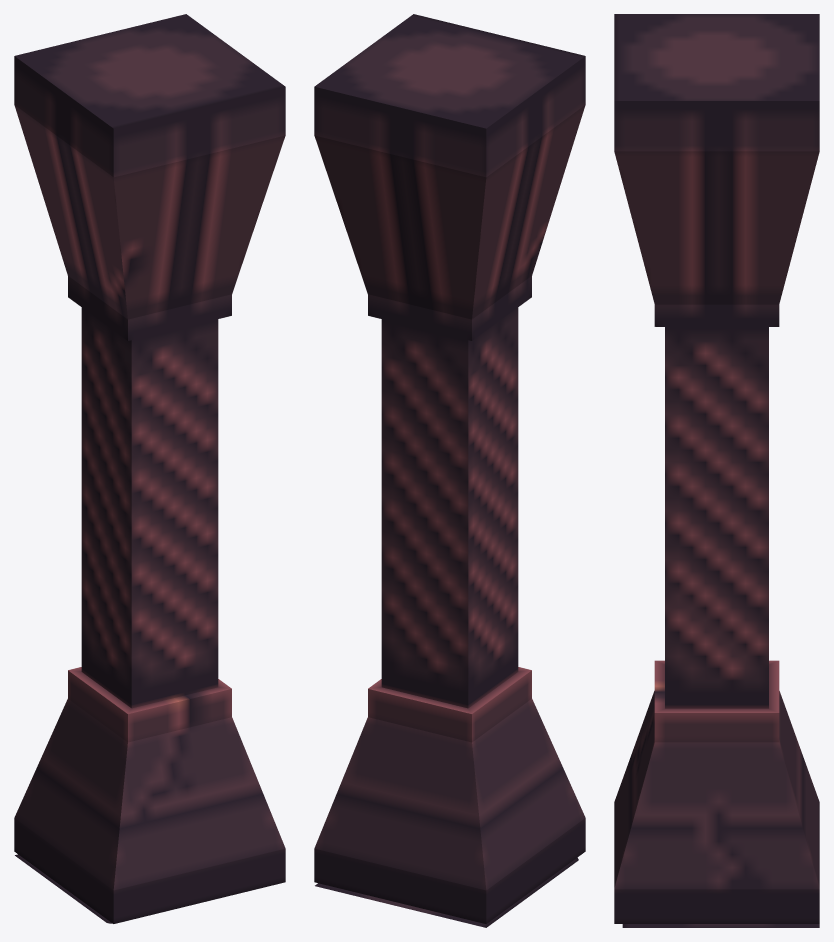
Rendered from pillar_2.fbx.
The picture shows the model from 3 angles, left to right: view 1: azimuth 30°, elevation 25°; view 2: azimuth 150°, elevation 25°; view 3: azimuth 270°, elevation 25°; orthographic projection. The views are drawn at different scales.
Visible parts, largest first — view 1: Box001; view 2: Box001; view 3: Box001.
Boxes of the visible parts, left/top/right/bottom form: Box001: left=14, top=14, right=285, bottom=923; Box001: left=314, top=14, right=585, bottom=927; Box001: left=614, top=14, right=819, bottom=927.
Bounding box in the file's own units: 27.48 × 27.48 × 122.
1 material, 1 textured.
